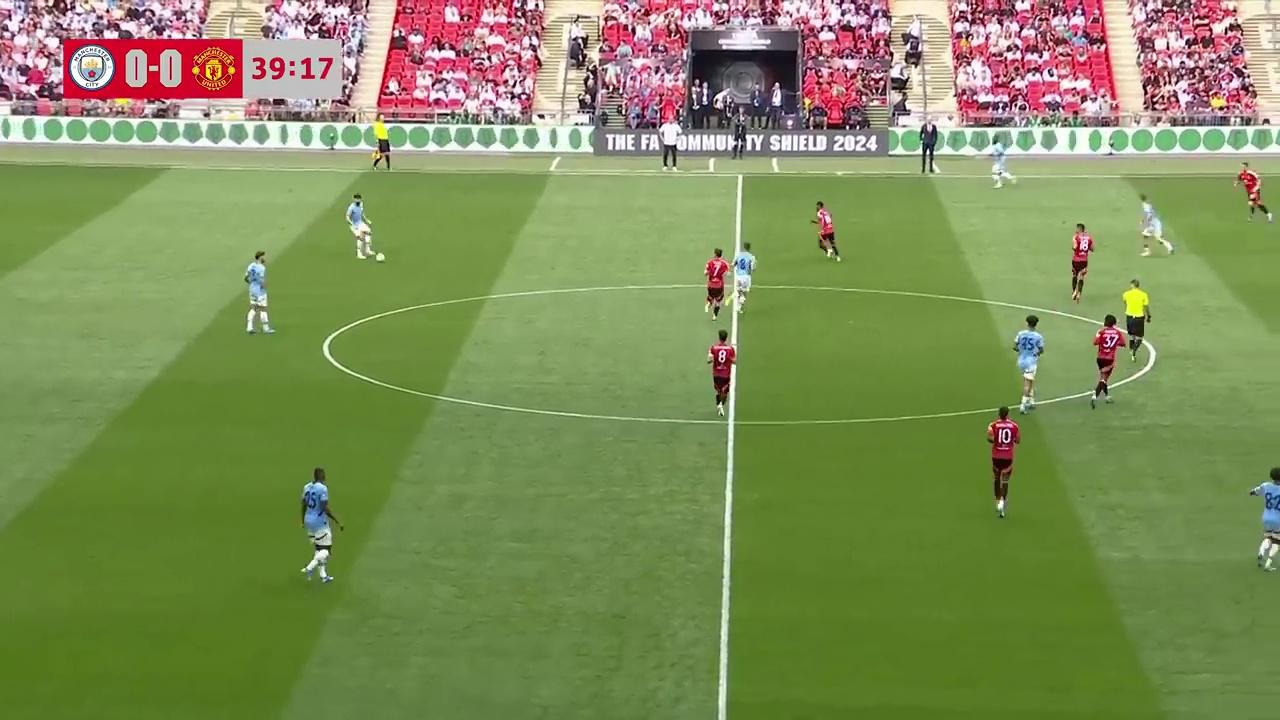ball: (375, 250, 385, 263)
player: (300, 469, 342, 584), (986, 405, 1020, 518), (1248, 467, 1280, 571), (1089, 315, 1124, 408), (1012, 316, 1044, 413), (243, 252, 274, 335), (707, 329, 736, 416), (1138, 195, 1175, 256), (1233, 163, 1270, 222), (345, 193, 375, 259), (1070, 222, 1094, 301), (810, 201, 841, 262), (704, 247, 729, 319), (728, 242, 752, 312), (990, 144, 1017, 188)
referee: (1121, 278, 1151, 355), (371, 117, 392, 171)
